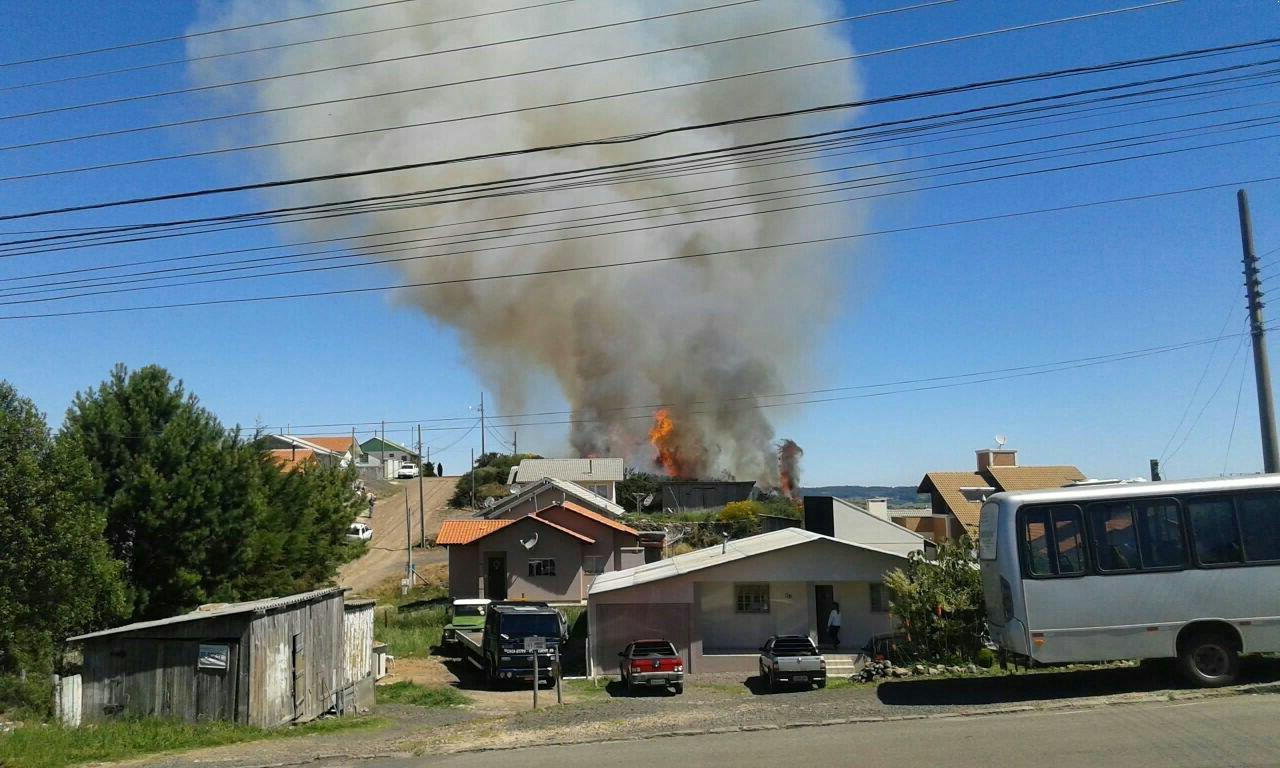Fire: (643, 395, 690, 485)
